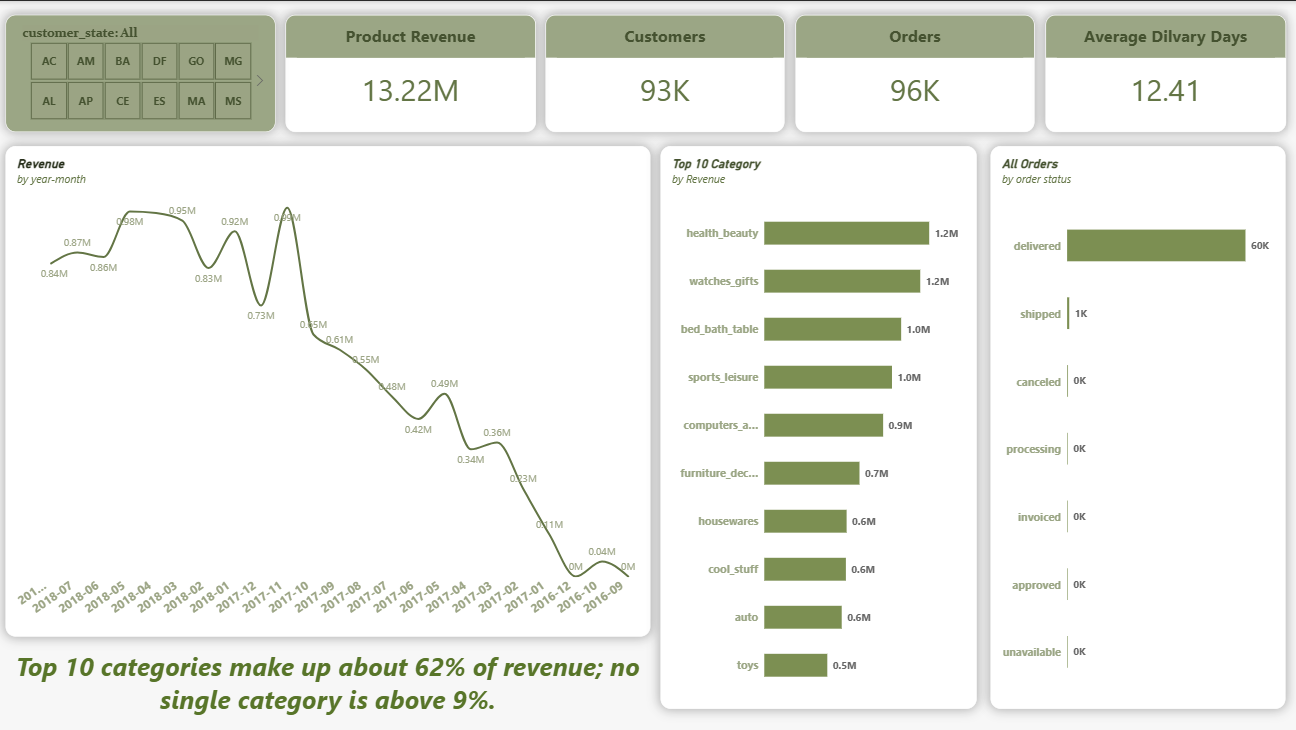

The dashboard page shown, as its layout file describes it:
{"tool":"powerbi","page":{"name":"Overview","canvas":[1920,1080],"ordinal":0},"visuals":[{"type":"card","title":"Customers","fields":{"Values":["MeasuresT.Customers"]},"box":[806.9,20.6,352,172.9],"z":0},{"type":"card","title":"Product Revenue","fields":{"Values":["MeasuresT.ProductRevenue"]},"box":[423,20.6,368.4,172.9],"z":1000},{"type":"card","title":"Orders","fields":{"Values":["MeasuresT.Orders"]},"box":[1174.3,20.6,352,172.9],"z":2000},{"type":"card","title":"Average Dilvary Days","fields":{"Values":["MeasuresT.AVGDelivaryDays"]},"box":[1541.7,20.6,354,172.9],"z":3000},{"type":"lineChart","title":"Revenue","fields":{"Category":["dim_date.year_month"],"Y":["MeasuresT.ProductRevenue"]},"box":[10.4,212.9,949.6,722.1],"z":4000},{"type":"barChart","title":"Top 10 Category","fields":{"Category":["dim_product.product_category_name"],"Y":["MeasuresT.ProductRevenue"]},"box":[974.6,212.9,465.4,828.5],"z":5000},{"type":"barChart","title":"All Orders","fields":{"Category":["dim_order_status.order_status"],"Y":["MeasuresT.AllOrders"]},"box":[1460.9,212.9,434.1,828.5],"z":6000},{"type":"slicer","fields":{"Values":["dim_customer.customer_state"]},"box":[10.3,20.6,397.3,172.9],"z":7000},{"type":"textbox","box":[10.4,953.7,949.6,104.3],"z":8000}]}

Visuals, with their boxes in screenshot pixels (x1, y1, x2, y2), scaled from the page's 1920x1080 canvas onto the 1296x730 screenshot:
"Customers" card: {"x1": 545, "y1": 14, "x2": 782, "y2": 131}
"Product Revenue" card: {"x1": 286, "y1": 14, "x2": 534, "y2": 131}
"Orders" card: {"x1": 793, "y1": 14, "x2": 1030, "y2": 131}
"Average Dilvary Days" card: {"x1": 1041, "y1": 14, "x2": 1280, "y2": 131}
"Revenue" lineChart: {"x1": 7, "y1": 144, "x2": 648, "y2": 632}
"Top 10 Category" barChart: {"x1": 658, "y1": 144, "x2": 972, "y2": 704}
"All Orders" barChart: {"x1": 986, "y1": 144, "x2": 1279, "y2": 704}
slicer - dim_customer.customer_state: {"x1": 7, "y1": 14, "x2": 275, "y2": 131}
textbox: {"x1": 7, "y1": 645, "x2": 648, "y2": 715}
